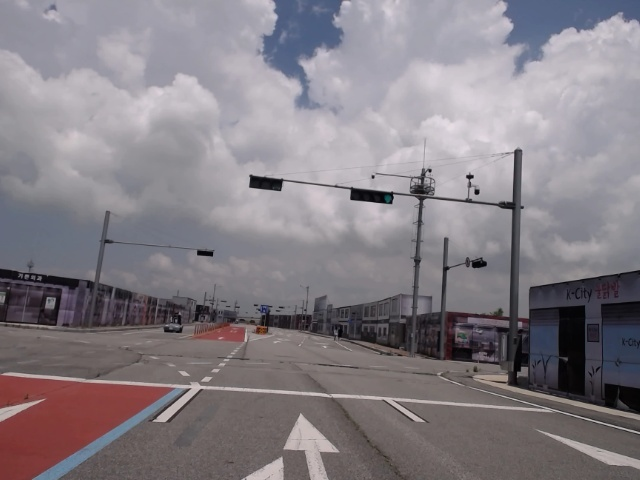straight_green_4: (351, 189, 394, 204)
